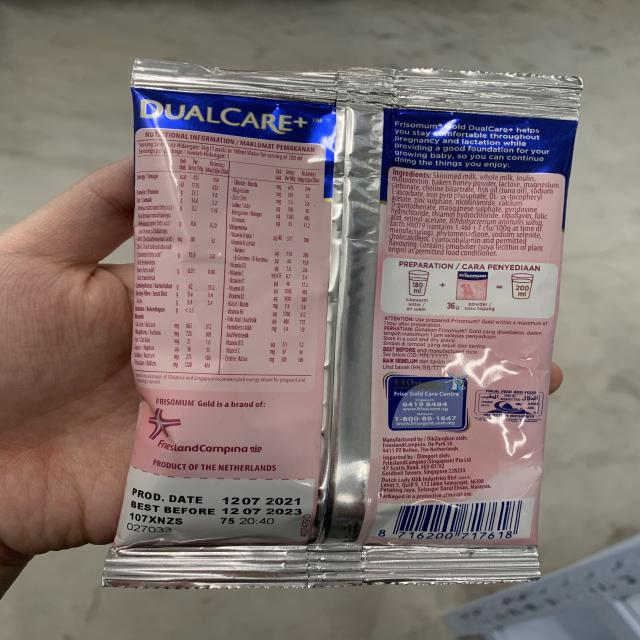object_name: (143, 64, 530, 571)
